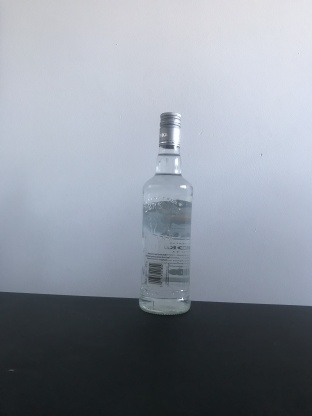nakretka: (157, 110, 182, 149)
